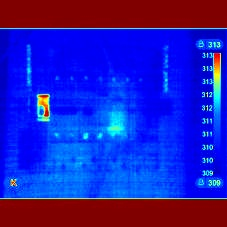Medium: (30, 92, 60, 127)
